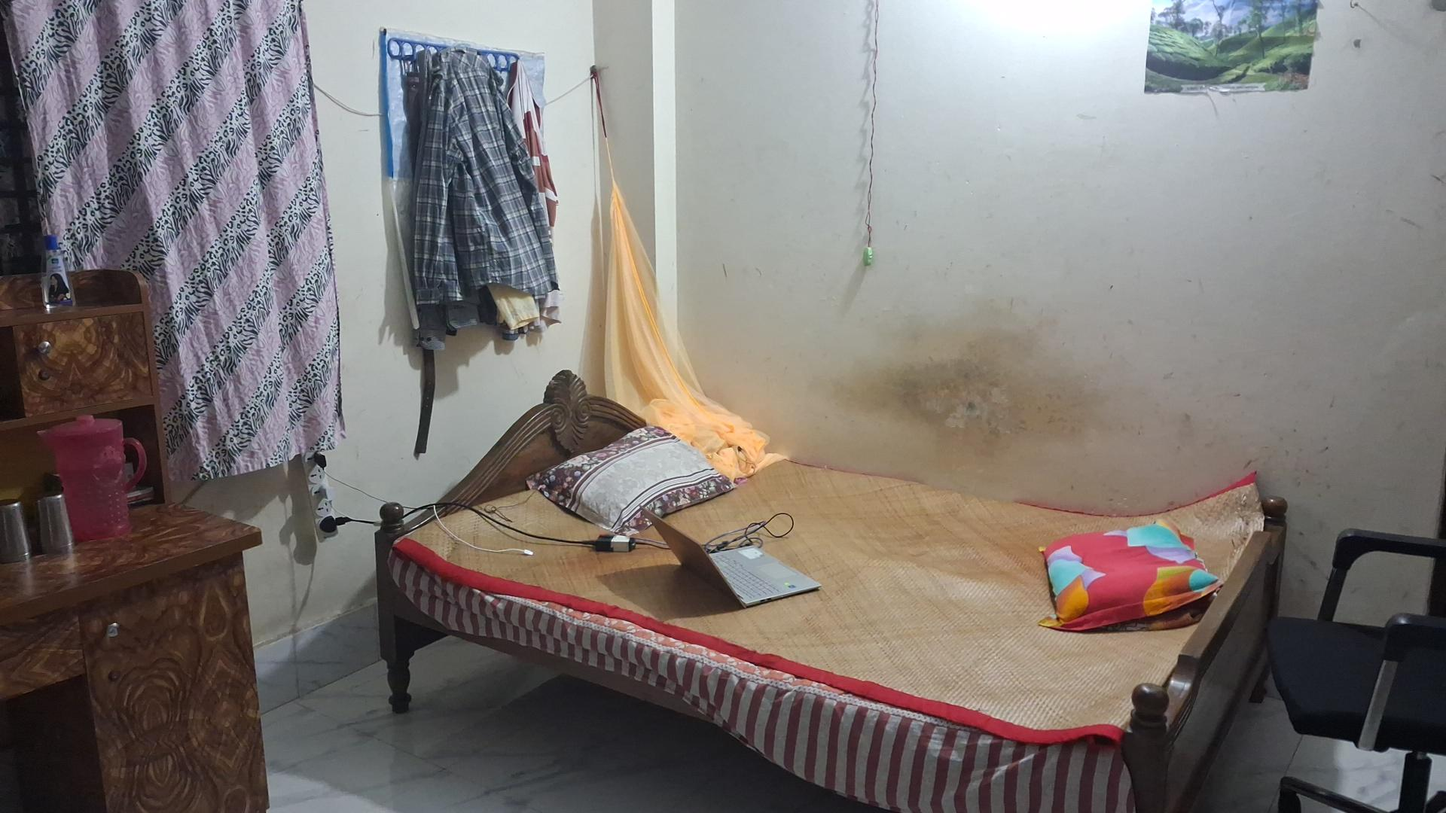Chair: (1265, 527, 1445, 805)
Glass: (36, 495, 75, 557), (0, 501, 32, 565)
Jug: (48, 415, 138, 543)
Laptop: (649, 512, 821, 609)
Photo: (1153, 0, 1317, 115)
Pillow: (1041, 506, 1212, 638), (525, 431, 735, 526)
